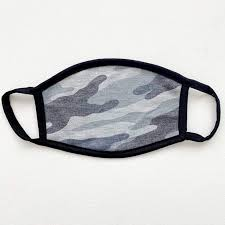cloth_mask: (1, 58, 222, 159)
